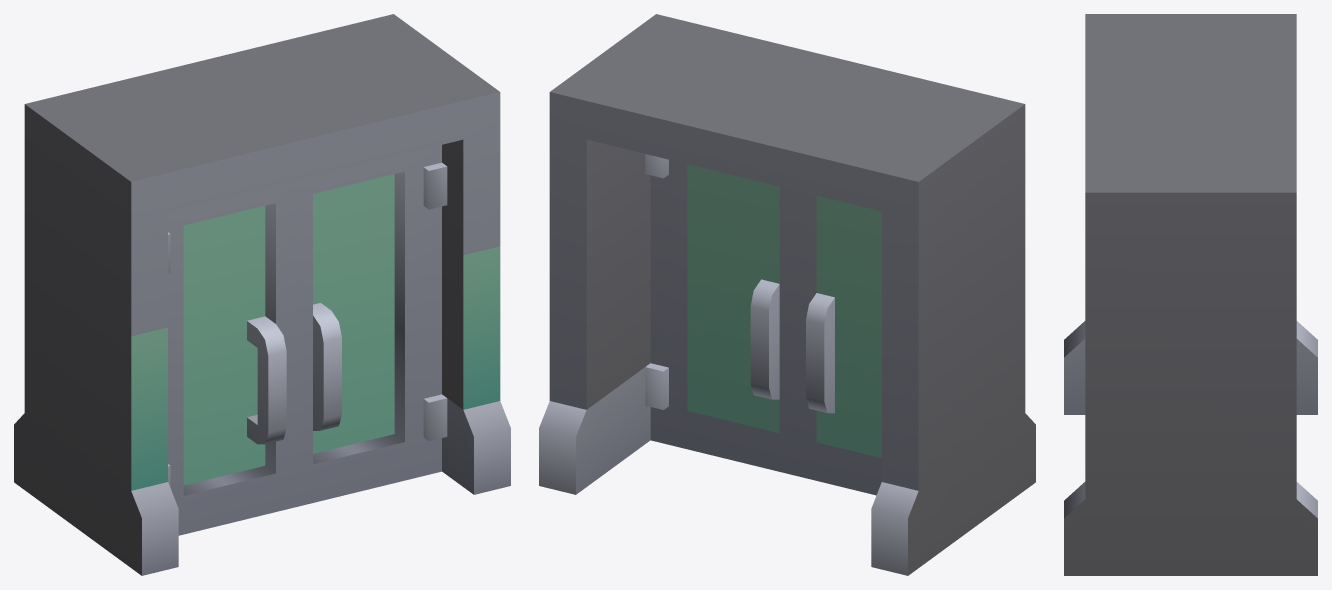
File: wall-door-rotate.glb
3 views of the same model, side by side, from view 1: azimuth 30°, elevation 25°; view 2: azimuth 150°, elevation 25°; view 3: azimuth 270°, elevation 25° (orthographic).
Parts seen in each view (by area): view 1: wall-door-rotate; view 2: wall-door-rotate; view 3: wall-door-rotate.
Part boxes in pixels (<box>): wall-door-rotate: <box>14,14,510,575</box>; wall-door-rotate: <box>539,14,1035,575</box>; wall-door-rotate: <box>1064,14,1317,575</box>.
Bounding box in the file's own units: 1 × 1 × 0.6.
